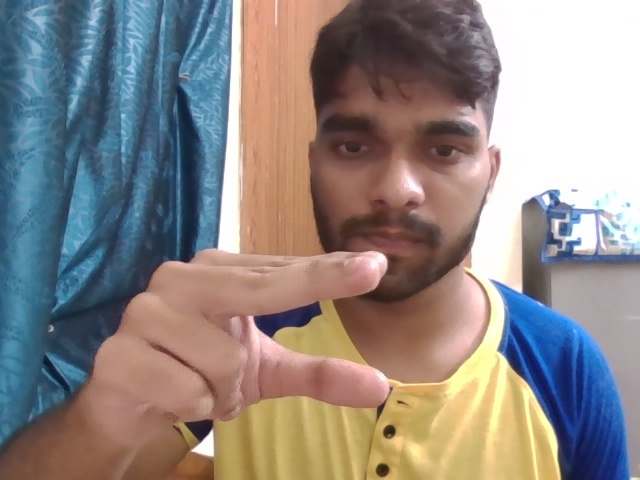No: (86, 227, 407, 441)
